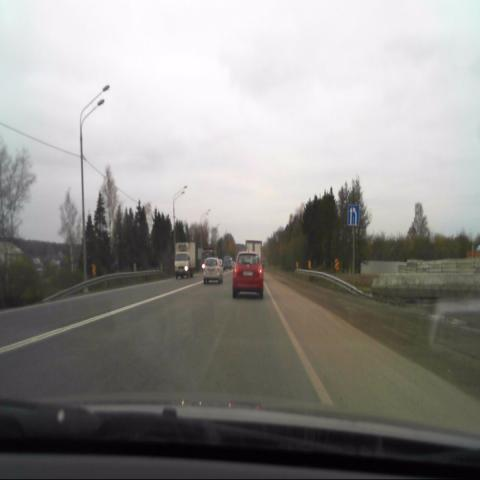5_15_5: (347, 205, 360, 226)
